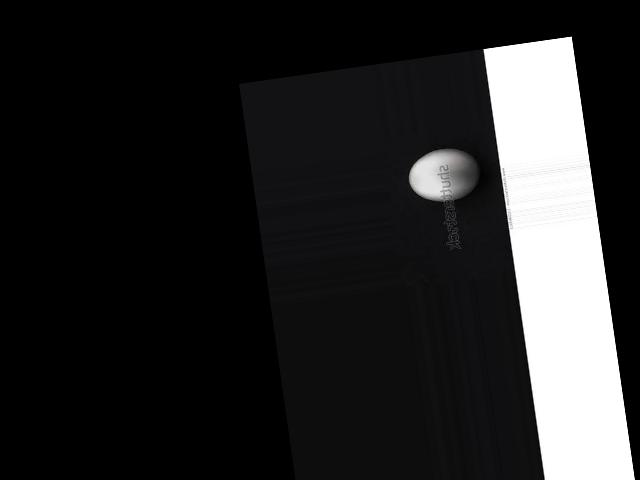egg: (404, 143, 482, 205)
